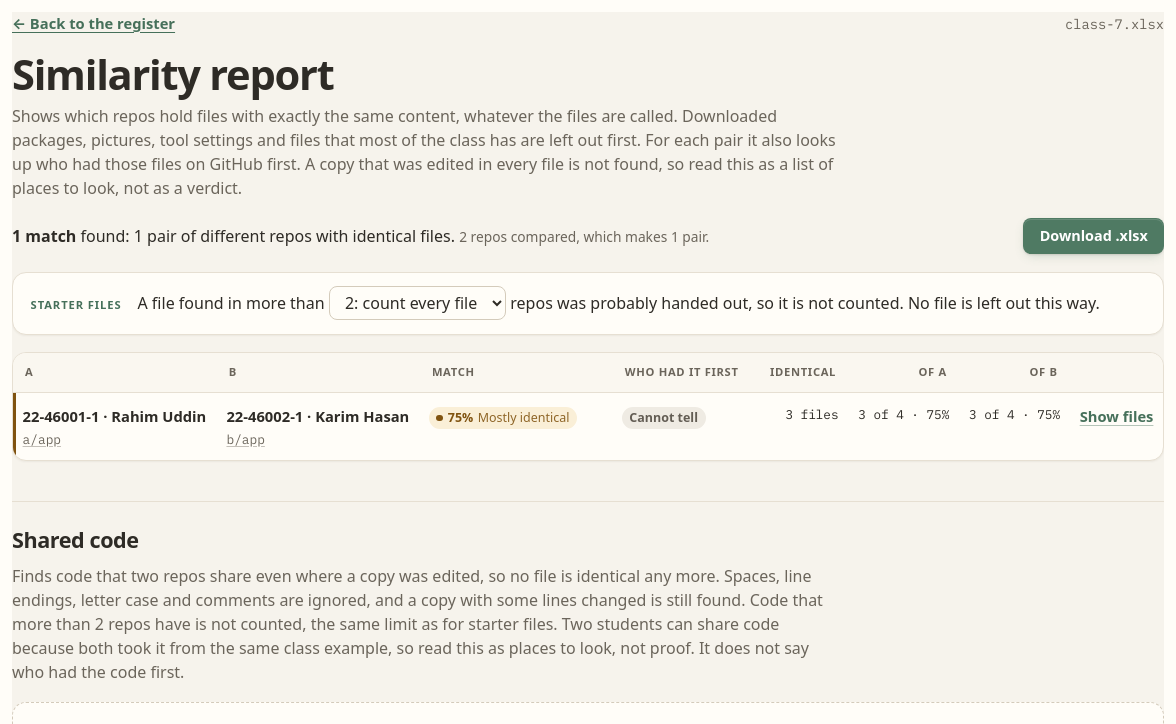
Test: who had it first › reads a push log that could not be loaded as "cannot tell", never as a finding
Expected: the cell "Cannot tell" is shown, [613,393,758,460]
Step 1. Click the button "Show files" → (1117, 416), box [1080,405,1153,427]
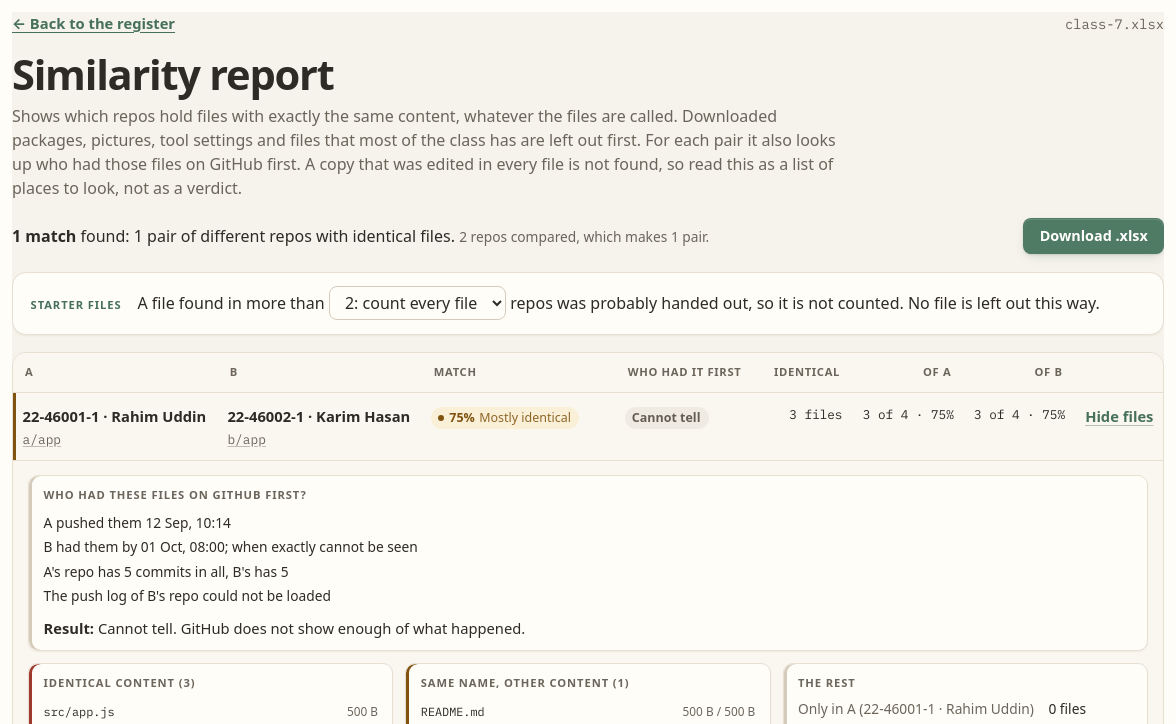
Result: the list item "The push log of B's repo could not be loaded" is shown at [44,586,331,605]
